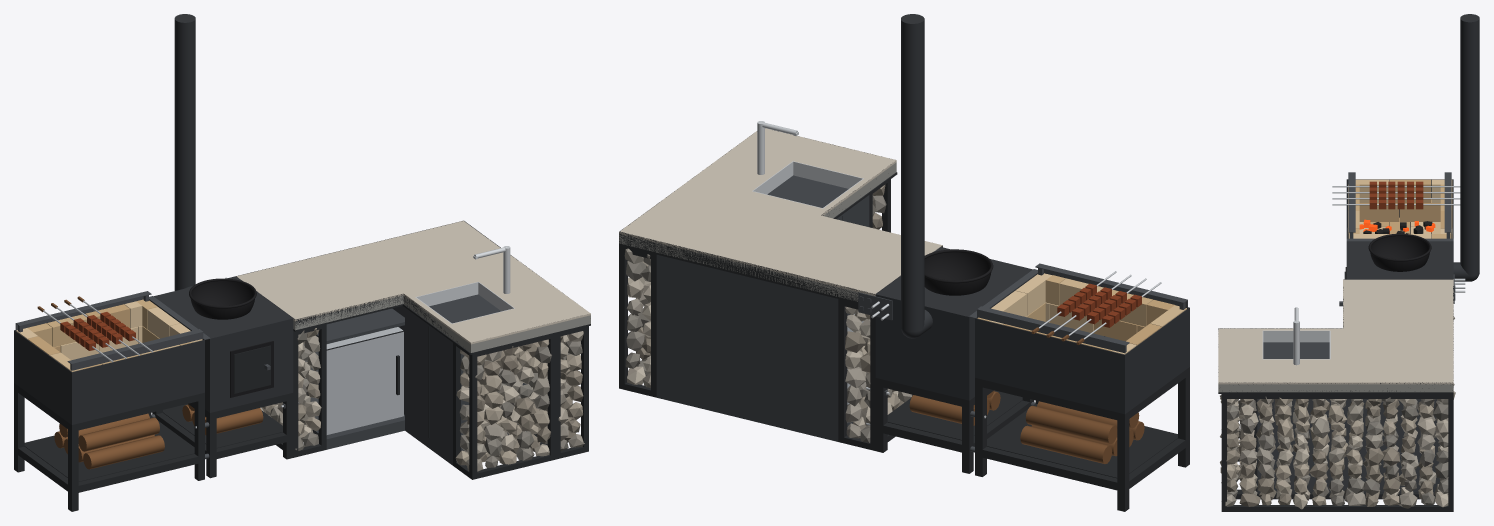
The model's file is zona-mangala.glb.
3 renders of one model, left to right at view 1: azimuth 30°, elevation 25°; view 2: azimuth 150°, elevation 25°; view 3: azimuth 270°, elevation 25°, orthographic. The views are drawn at different scales.
Visible parts, largest first — view 1: ZonaMangala, object 432, object 118, object 114, object 559, object 503, object 431, object 551, object 552, object 112, object 555, object 501 (+15 smaller); view 2: ZonaMangala, object 432, object 109, object 117, object 559, object 504, object 433, object 431, object 551, object 552, object 118, object 501 (+10 smaller); view 3: object 432, ZonaMangala, object 559, object 118, object 551, object 431, object 117, object 552, object 218, object 222, object 475, object 212 (+4 smaller).
Part boxes in pixels (x1,y1,x2,y2): ZonaMangala: (14, 291, 209, 511); object 432: (236, 221, 590, 344); object 118: (405, 294, 527, 465); object 114: (326, 332, 403, 434); object 559: (174, 14, 195, 290); object 503: (209, 319, 293, 412); object 431: (293, 295, 590, 352); object 551: (154, 276, 293, 339); object 552: (190, 281, 254, 319); object 112: (316, 308, 404, 343); object 555: (234, 345, 270, 393); object 501: (163, 407, 282, 448); ZonaMangala: (970, 263, 1189, 511); object 432: (619, 128, 942, 296); object 109: (741, 275, 838, 441); object 117: (656, 254, 740, 418); object 559: (901, 14, 924, 331); object 504: (875, 295, 969, 400); object 433: (619, 231, 875, 303); object 431: (619, 162, 896, 301); object 551: (875, 247, 1032, 317); object 552: (924, 252, 991, 295); object 118: (767, 175, 869, 226); object 501: (888, 394, 1022, 440); object 432: (1218, 279, 1453, 384); ZonaMangala: (1332, 172, 1460, 238); object 559: (1460, 14, 1479, 275); object 118: (1257, 342, 1346, 491); object 551: (1346, 242, 1453, 279); object 431: (1218, 384, 1453, 392); object 117: (1346, 399, 1439, 491); object 552: (1370, 236, 1429, 271); object 218: (1227, 505, 1448, 511); object 222: (1227, 394, 1448, 398); object 475: (1263, 330, 1330, 342); object 212: (1448, 394, 1453, 511).
Bounding box in the file's own units: 2.72 × 2.32 × 1.47.
